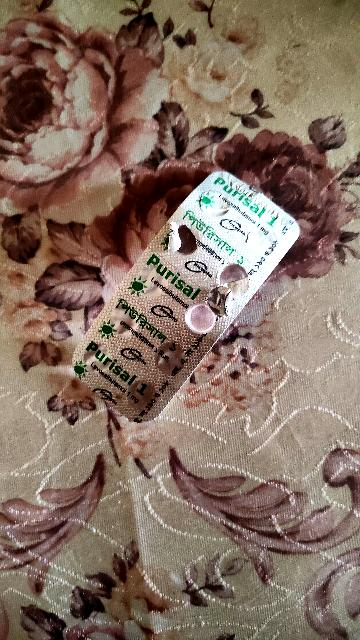medicine: (47, 153, 323, 451)
